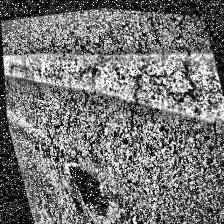pothole: (54, 150, 116, 224)
